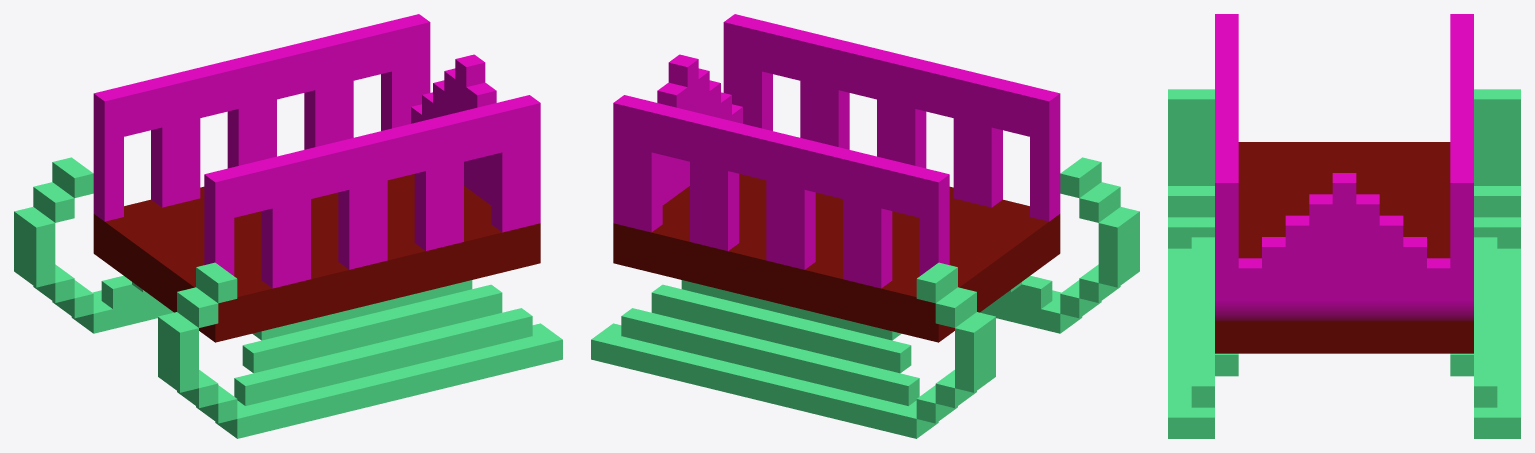
File: Vehicle_4.fbx
3 renders of one model, left to right at view 1: azimuth 30°, elevation 25°; view 2: azimuth 150°, elevation 25°; view 3: azimuth 270°, elevation 25°, orthographic. The views are drawn at different scales.
Parts seen in each view (by area): view 1: Vehicle_4; view 2: Vehicle_4; view 3: Vehicle_4.
Part boxes in pixels (x1,y1,x2,y2): Vehicle_4: [14, 14, 562, 438]; Vehicle_4: [591, 14, 1139, 438]; Vehicle_4: [1168, 14, 1520, 438].
Size of the model in its own units: 20 by 12 by 15.
1 material, 1 textured.
